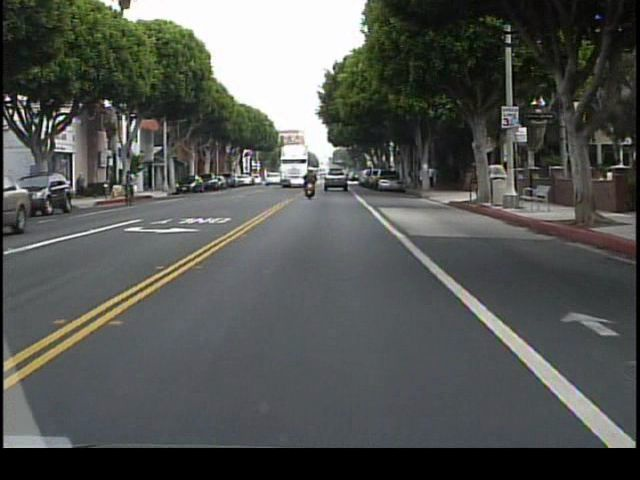person: (121, 166, 141, 204), (304, 164, 322, 205), (414, 165, 425, 193), (433, 163, 442, 190), (429, 166, 435, 189)
